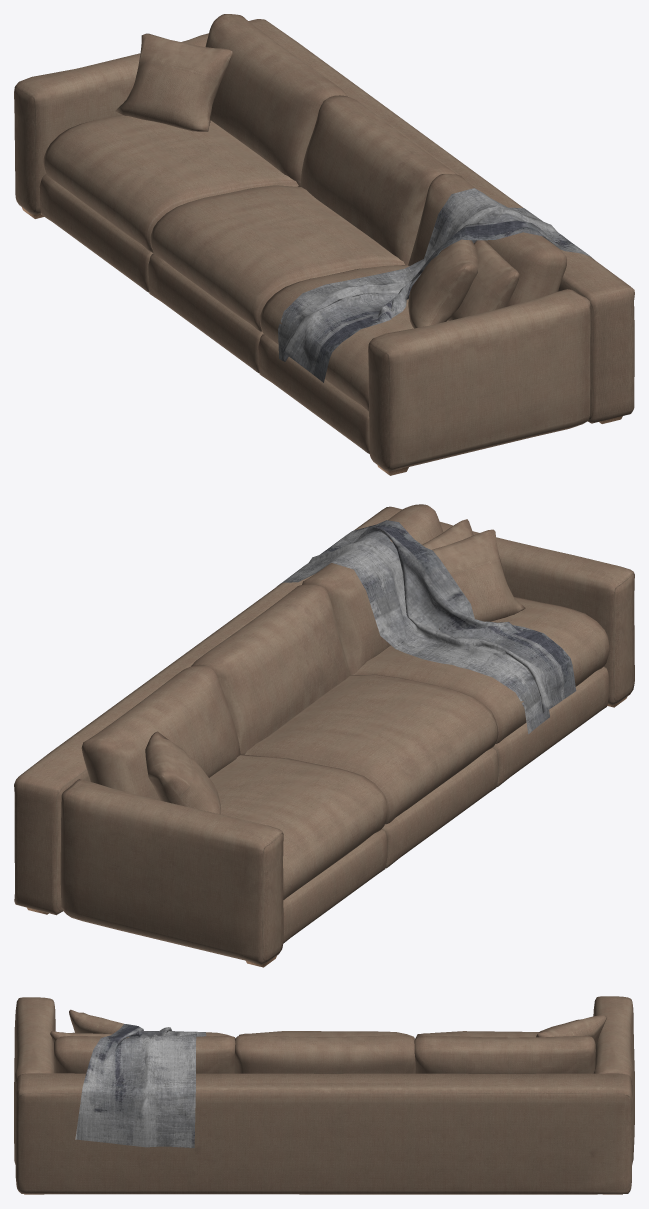
The model's file is SM_Sofa_A1.fbx.
The picture shows the model from 3 angles, top to bottom: view 1: azimuth 30°, elevation 25°; view 2: azimuth 150°, elevation 25°; view 3: azimuth 270°, elevation 25°; orthographic projection. The views are drawn at different scales.
Parts seen in each view (by area): view 1: SM_Sofa_A1; view 2: SM_Sofa_A1; view 3: SM_Sofa_A1.
Boxes of the visible parts, <box> form: SM_Sofa_A1: <box>14,14,634,475</box>; SM_Sofa_A1: <box>14,504,634,967</box>; SM_Sofa_A1: <box>14,996,634,1194</box>.
Size of the model in its own units: 135 by 333 by 81.46.
Materials: 1 (1 with a texture image).
